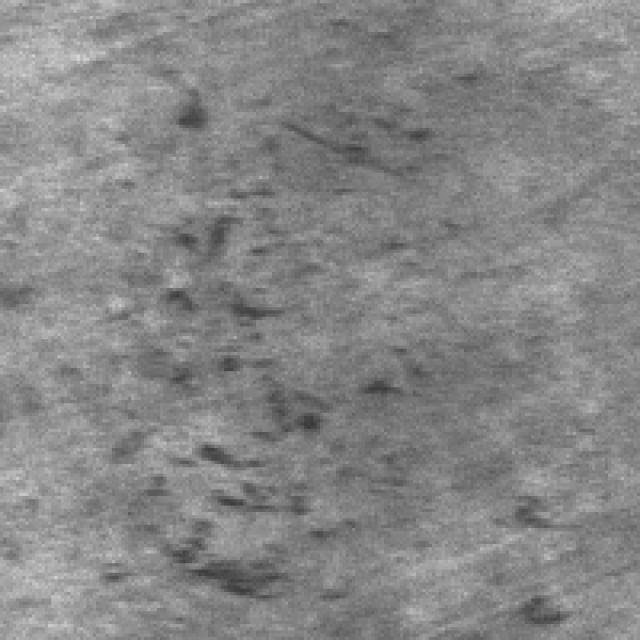rolled-in_scale: (96, 80, 390, 614)
